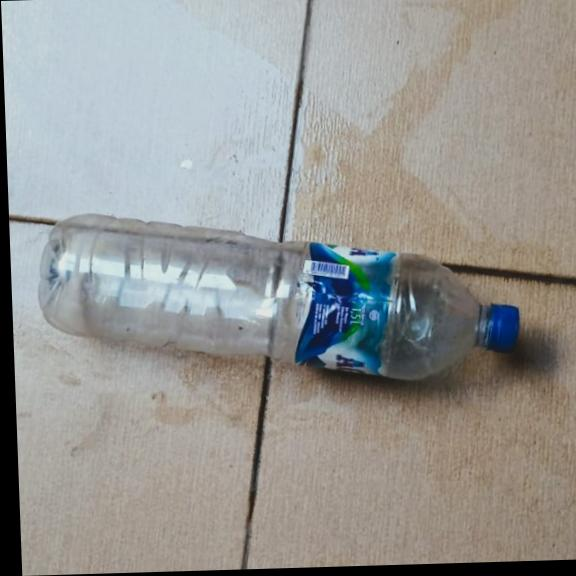Plastik: (31, 201, 520, 390)
